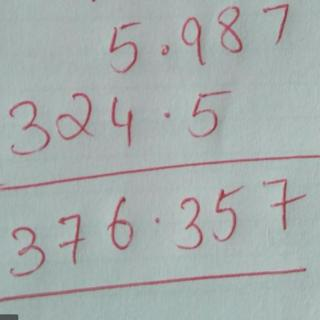.: (147, 214, 167, 231), (156, 41, 173, 58), (159, 108, 176, 121)
2: (57, 90, 97, 139)
3: (6, 99, 48, 157), (6, 227, 47, 280), (178, 195, 203, 252)
4: (109, 95, 136, 145)
5: (186, 88, 232, 138), (107, 14, 144, 75), (213, 187, 242, 240)
6: (108, 193, 136, 250)
7: (262, 175, 306, 232), (56, 213, 85, 265), (262, 2, 292, 49)
8: (216, 4, 247, 58)
9: (178, 15, 206, 68)
